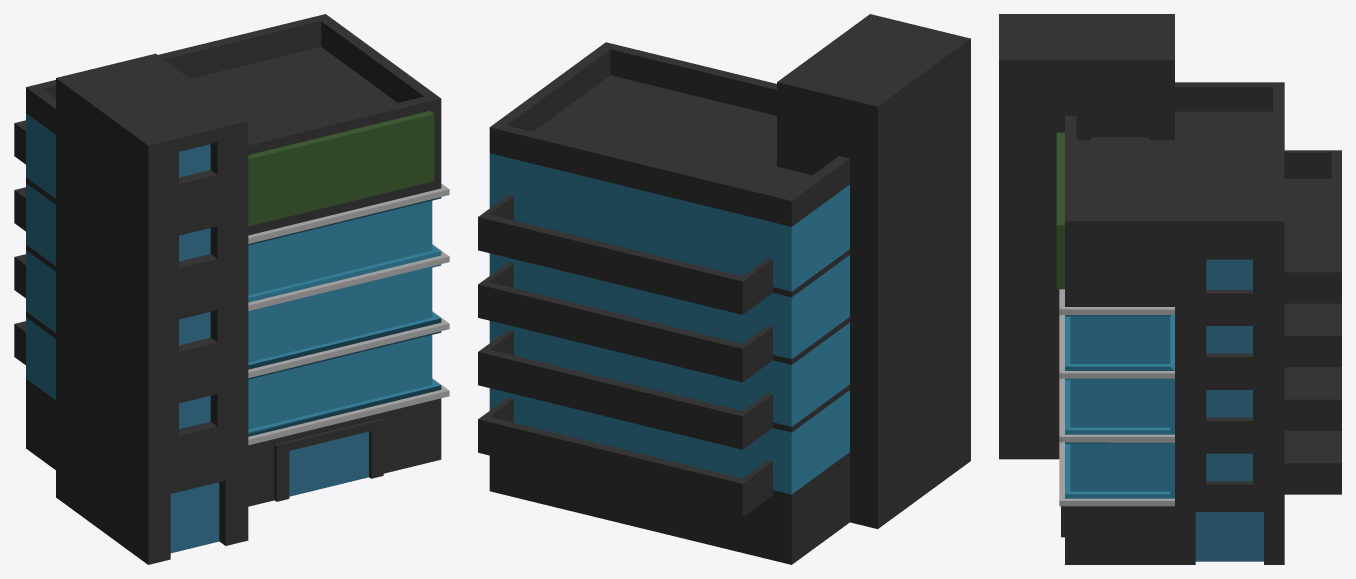
The model's file is obj_building_01_02.FBX.
3 views of the same model, side by side, from view 1: azimuth 30°, elevation 25°; view 2: azimuth 150°, elevation 25°; view 3: azimuth 270°, elevation 25° (orthographic). The views are drawn at different scales.
Parts seen in each view (by area): view 1: obj_building_01_02; view 2: obj_building_01_02; view 3: obj_building_01_02.
Boxes of the visible parts, x1=… form: obj_building_01_02: x1=14, y1=14, x2=449, y2=564; obj_building_01_02: x1=478, y1=14, x2=970, y2=564; obj_building_01_02: x1=999, y1=14, x2=1341, y2=564.
Size of the model in its own units: 62.91 by 75.71 by 58.95.
